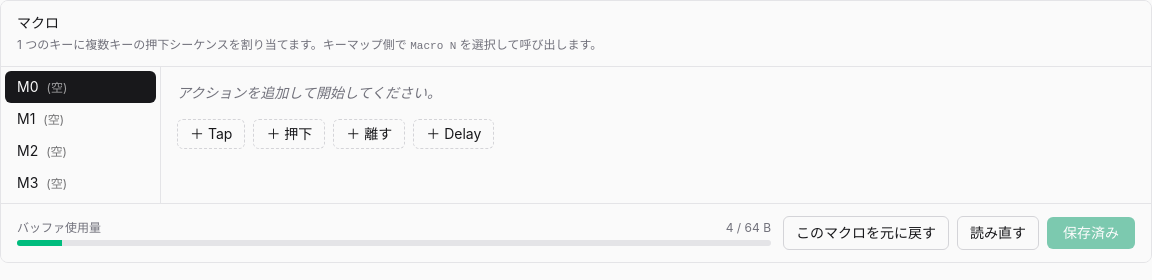
Test: MacroEditor — buffer usage and save button › 保存 button enables once an action is added (dirty)
Click the button "＋ Tap" at (211, 134), box [177,119,245,149]
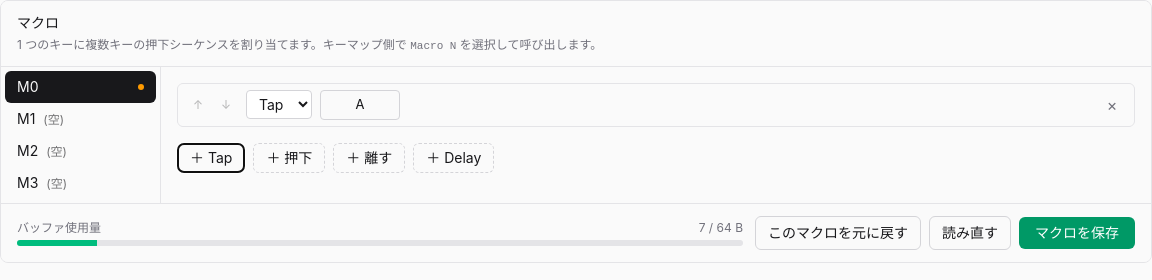
Check: the button "マクロを保存" is shown, box [1019,217,1135,249]
